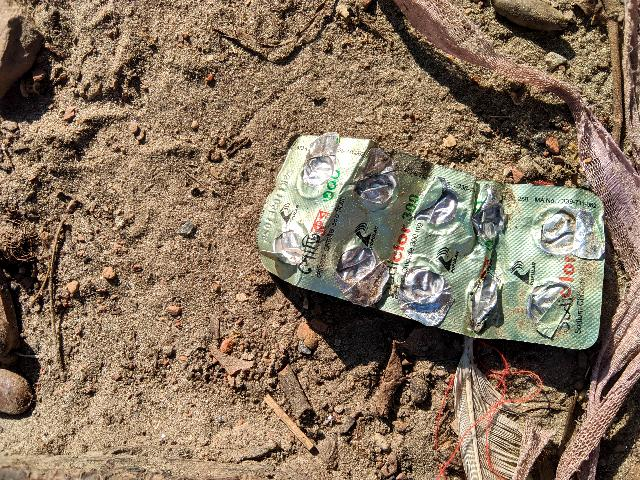medicine: (218, 108, 637, 370)
